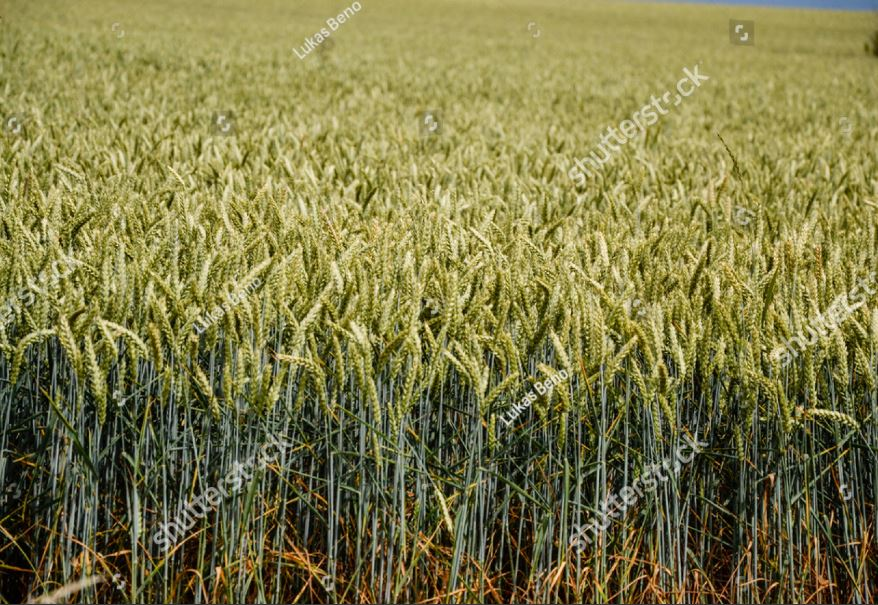Wheat: (27, 176, 769, 445)
